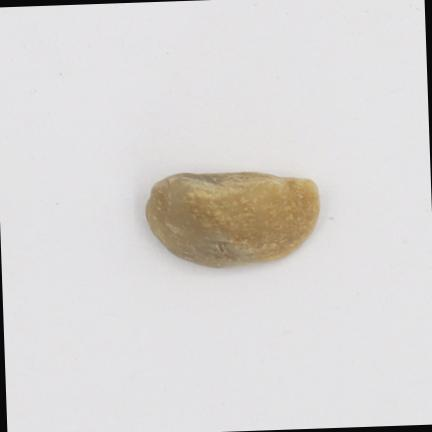shell: (147, 173, 319, 267)
